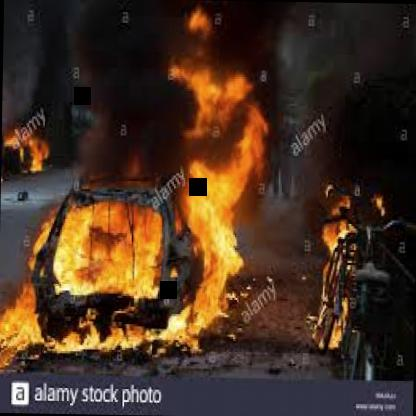fire: (30, 155, 222, 366)
